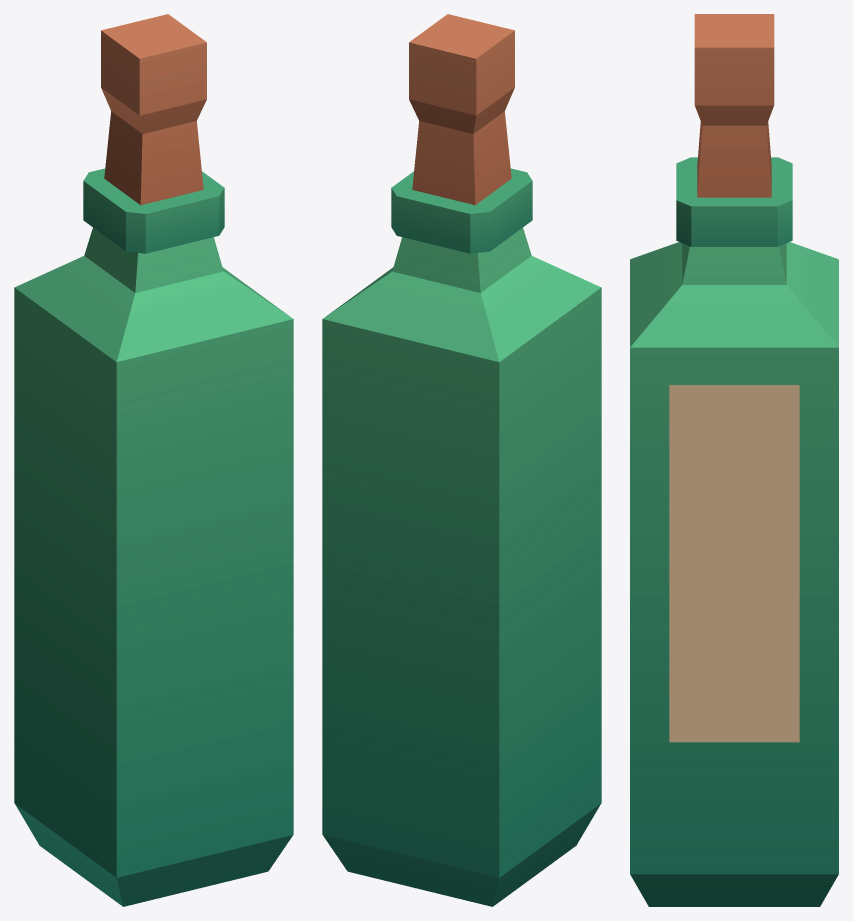
Rendered from GlassBottle.obj.
3 views of the same model, side by side, from view 1: azimuth 30°, elevation 25°; view 2: azimuth 150°, elevation 25°; view 3: azimuth 270°, elevation 25° (orthographic). The views are drawn at different scales.
Visible parts, largest first — view 1: bottle_oil; view 2: bottle_oil; view 3: bottle_oil.
Part boxes in pixels (x1,y1,x2,y2): bottle_oil: (14,14,293,906); bottle_oil: (322,14,601,906); bottle_oil: (630,14,838,906).
Bounding box in the file's own units: 0.049 × 0.2176 × 0.049.
1 material, 1 textured.
